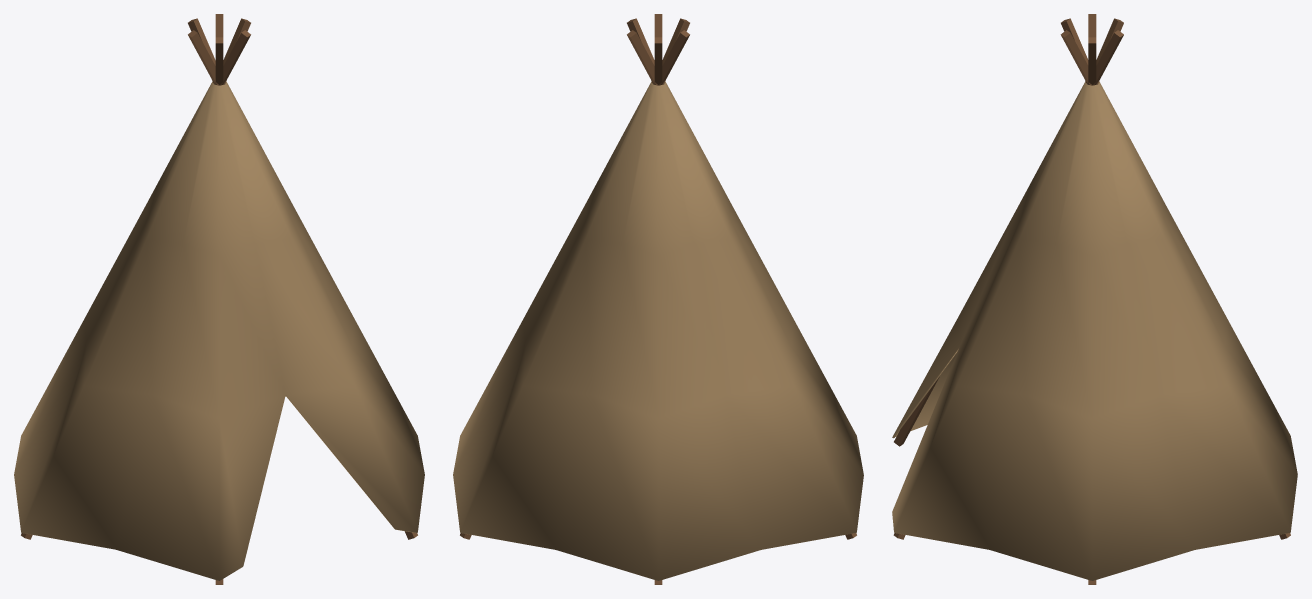
3 views of the same model, side by side, from view 1: azimuth 30°, elevation 25°; view 2: azimuth 150°, elevation 25°; view 3: azimuth 270°, elevation 25° (orthographic).
Visible parts, largest first — view 1: TanTeepeeCloth, TanTeepeePoles; view 2: TanTeepeeCloth, TanTeepeePoles; view 3: TanTeepeeCloth, TanTeepeePoles.
Boxes of the visible parts, <box> form: TanTeepeeCloth: <box>14,81,424,580</box>; TanTeepeePoles: <box>21,14,417,584</box>; TanTeepeeCloth: <box>453,81,863,580</box>; TanTeepeePoles: <box>460,14,856,584</box>; TanTeepeeCloth: <box>892,81,1297,580</box>; TanTeepeePoles: <box>893,14,1290,584</box>.
Size of what is drawn, in the model's own units: 5.86 by 6.58 by 5.19.
2 materials, 2 textured.
